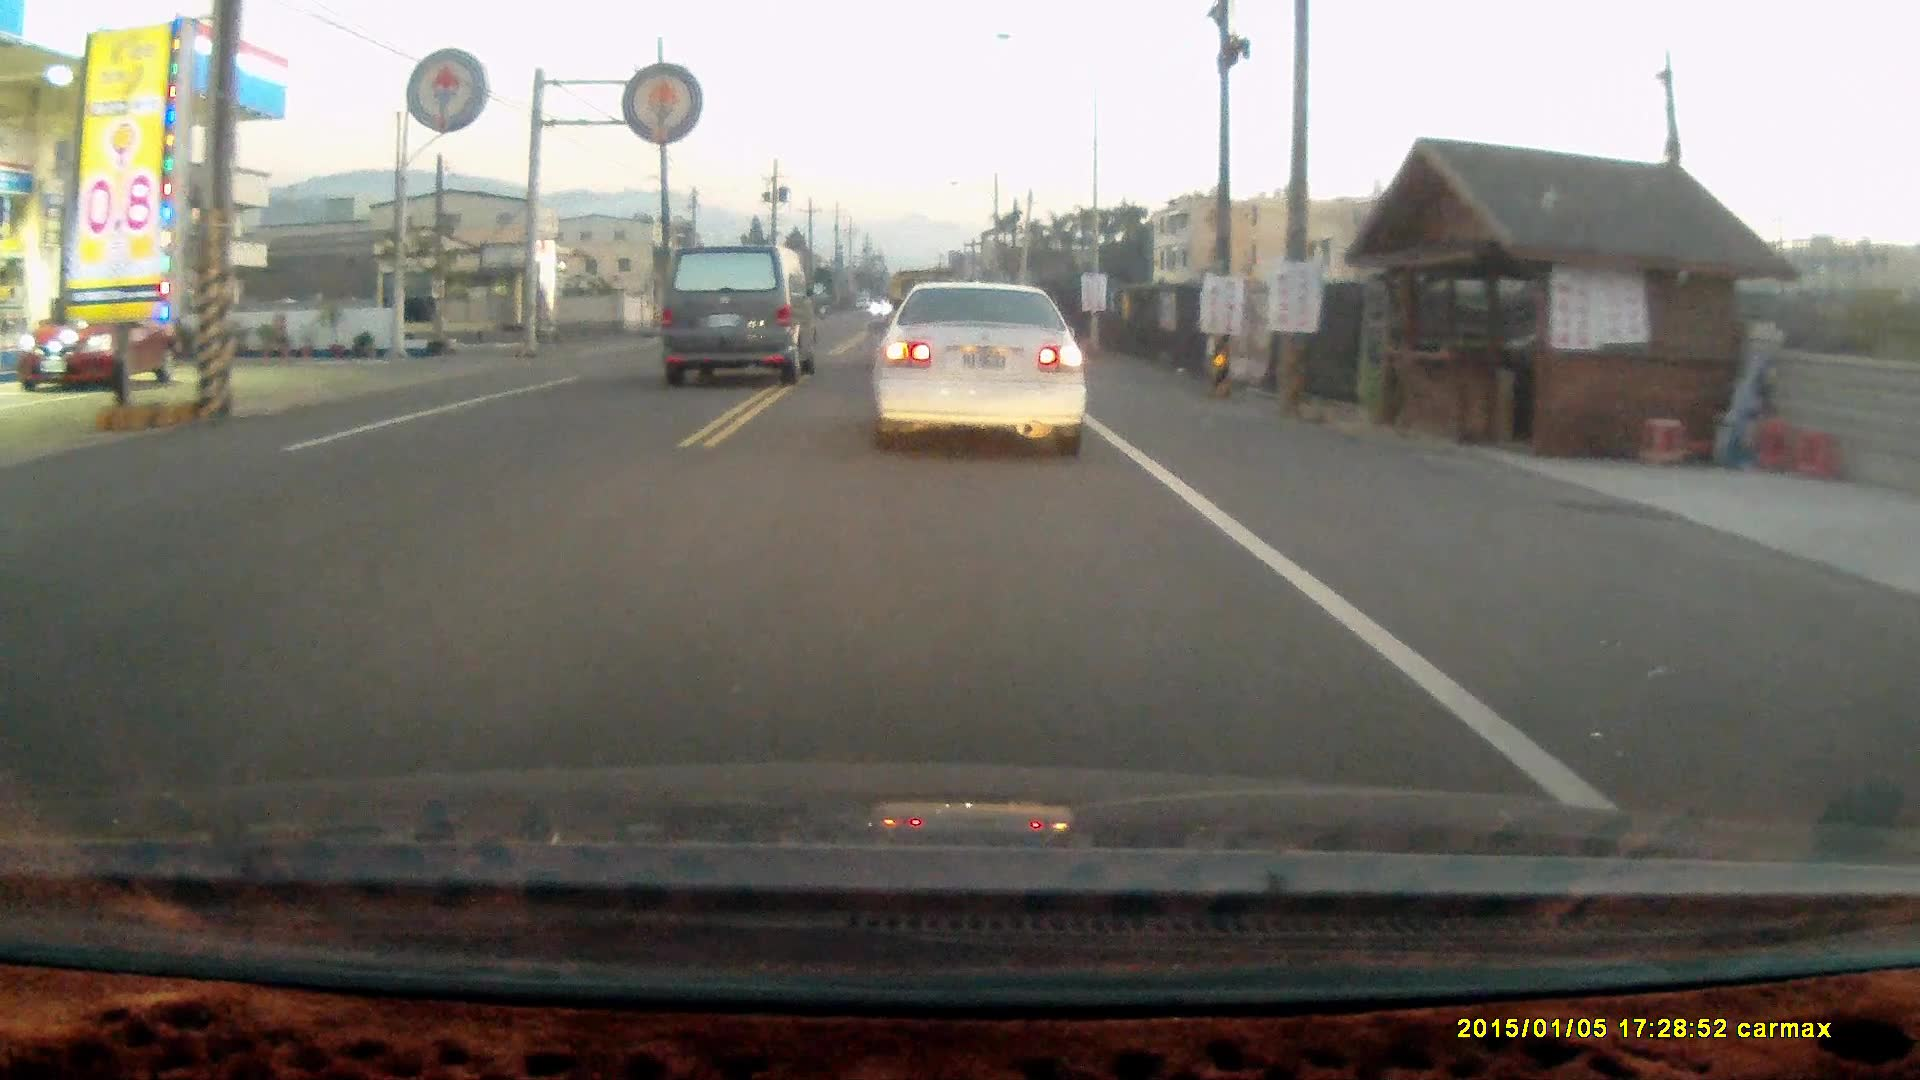vehicle: (866, 273, 1092, 459), (655, 240, 823, 384), (22, 293, 175, 396)
